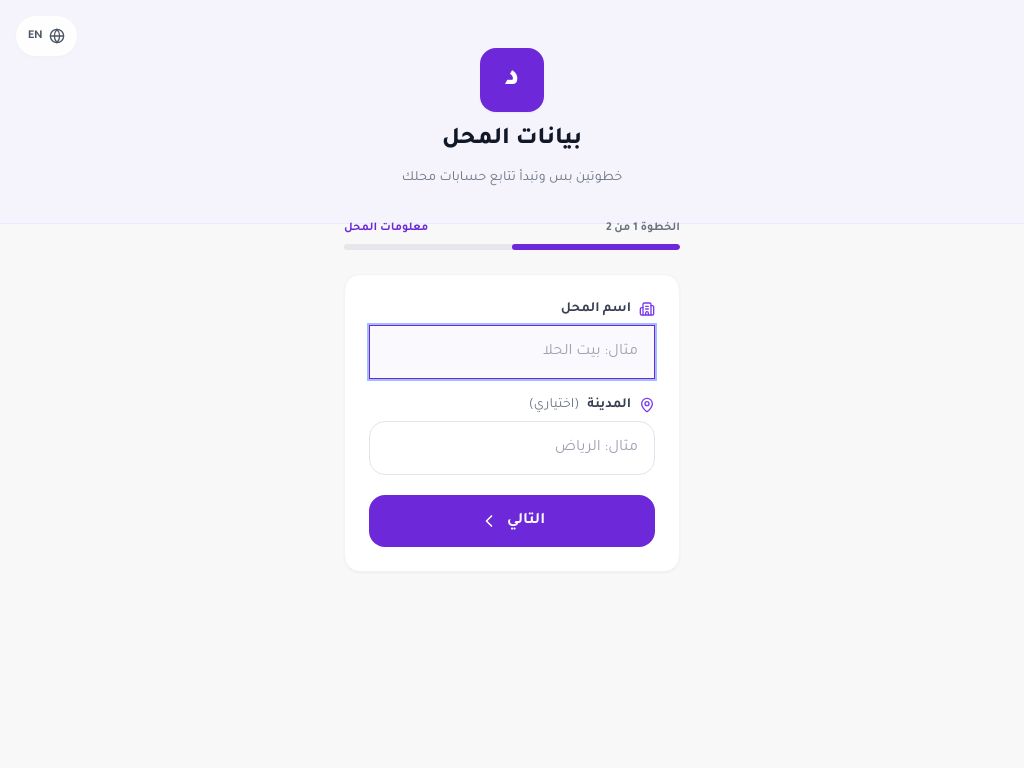
Scenario: صفحة الإعداد الأولي (Onboarding) › الخطوة الثانية – إعدادات الضريبة › زر الرجوع يعيد للخطوة الأولى
Type "بيت الحلا" into the field labelled "اسم المحل".
click(512, 352); type("بيت الحلا")  # box [369,325,655,379]
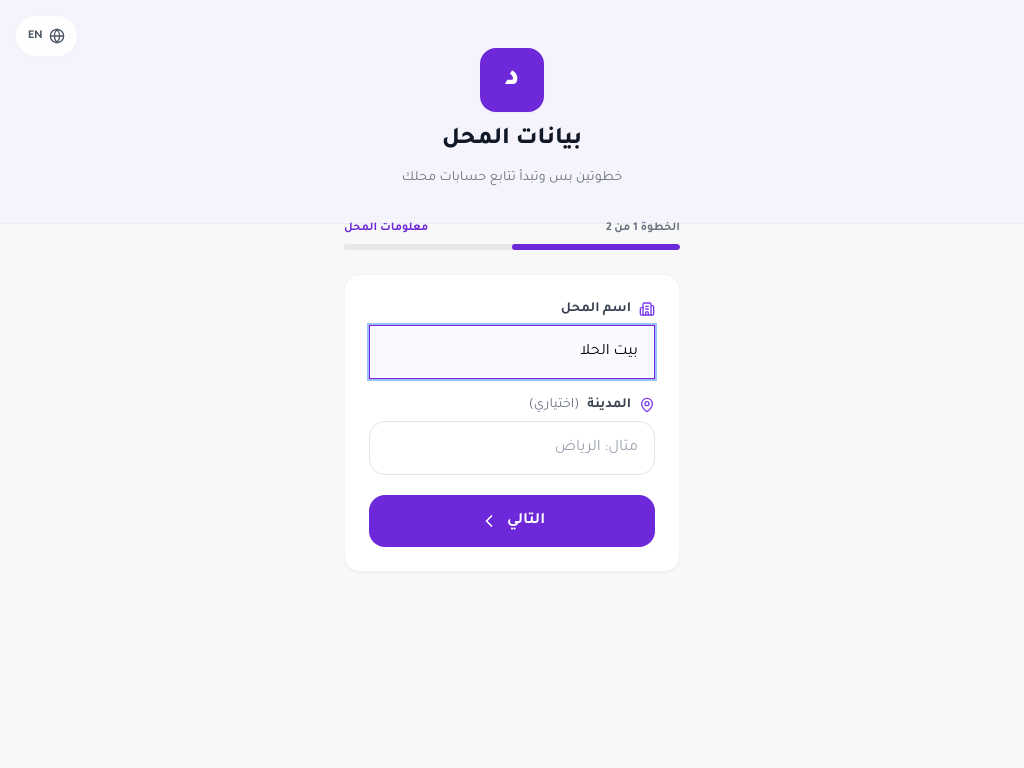
Click the button "التالي".
click(512, 521)  # box [369,495,655,547]
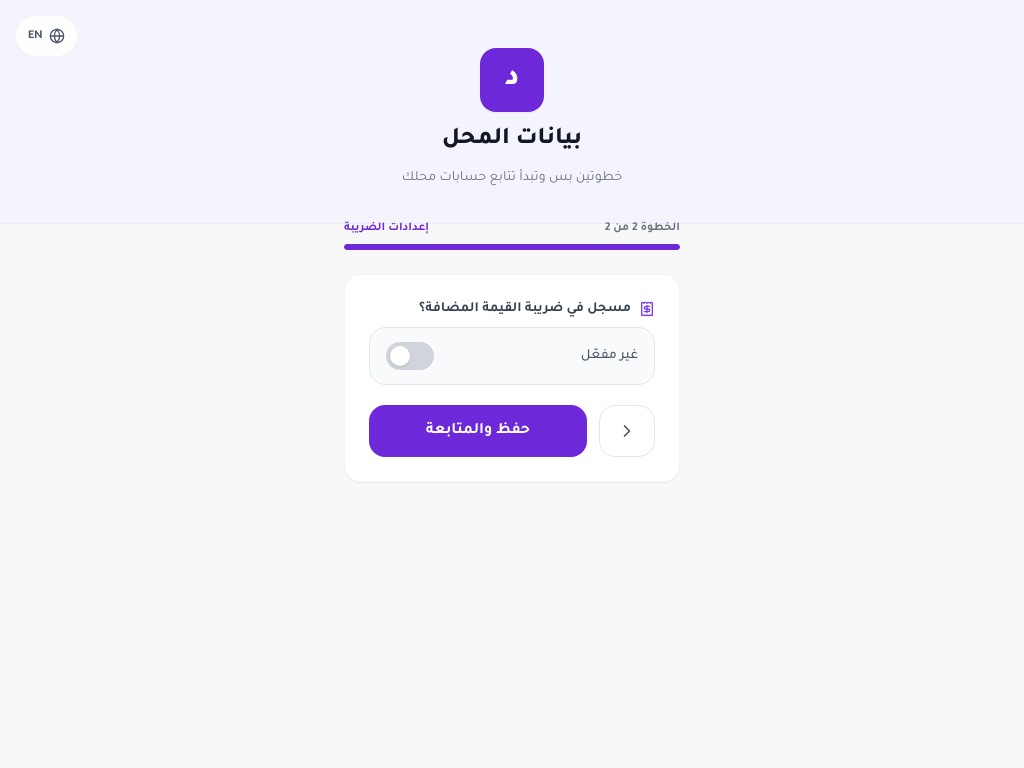
Expected: the text "إعدادات الضريبة" is shown, [344,220,429,236]
Click the button named "رجوع".
click(627, 431)  # box [599,405,655,457]
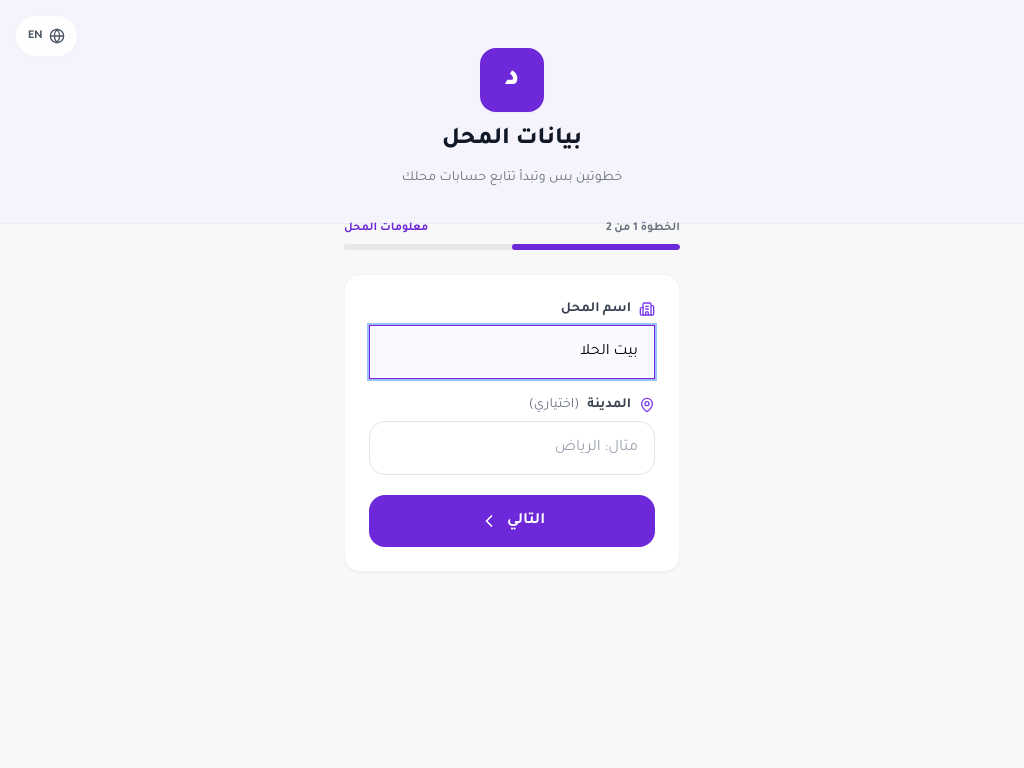
Expected: the text "معلومات المحل" is shown, [344,220,428,236]
